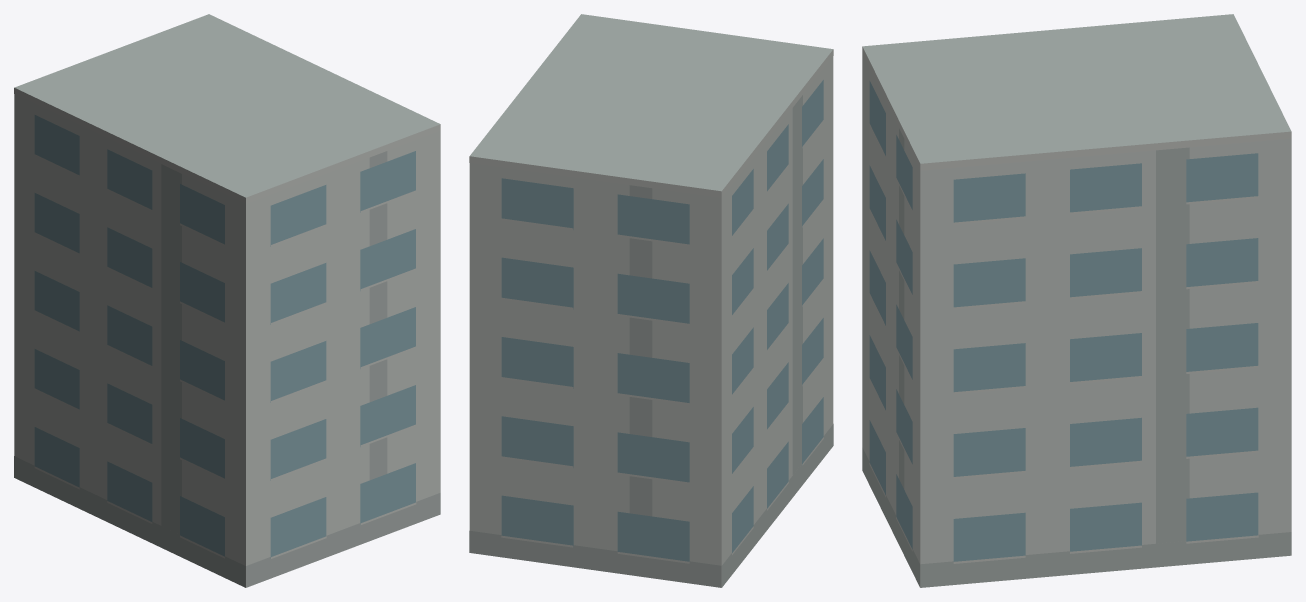
The model's file is survey-upis-32698519.glb.
The picture shows the model from 3 angles, left to right: view 1: azimuth 30°, elevation 25°; view 2: azimuth 150°, elevation 25°; view 3: azimuth 270°, elevation 25°; orthographic projection. The views are drawn at different scales.
Visible parts, largest first — view 1: survey-upis-32698519.tmp; view 2: survey-upis-32698519.tmp; view 3: survey-upis-32698519.tmp.
Boxes of the visible parts, x1,y1,x2,y2 form: survey-upis-32698519.tmp: [14, 14, 440, 587]; survey-upis-32698519.tmp: [469, 14, 833, 587]; survey-upis-32698519.tmp: [862, 14, 1291, 587].
Size of the model in its own units: 11.03 by 14.55 by 13.35.
